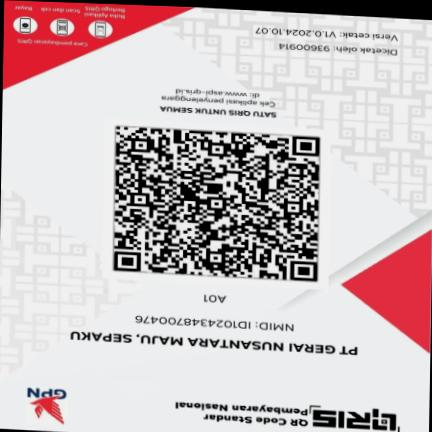Cara Pakai QRIS: (6, 0, 136, 52)
Cek Aplikasi Penyelenggara: (147, 82, 282, 109)
Dicetak Oleh: (274, 40, 401, 58)
Logo GPN: (16, 383, 76, 427)
Logo dan deskripsi QRIS: (170, 394, 405, 432)
Nama Merchant: (62, 326, 366, 364)
National Merchant ID: (124, 308, 301, 336)
QR Code: (103, 118, 331, 289)
Slogan: (148, 102, 282, 123)
Terminal ID: (193, 289, 232, 307)
Versi Cetak: (253, 24, 400, 44)
